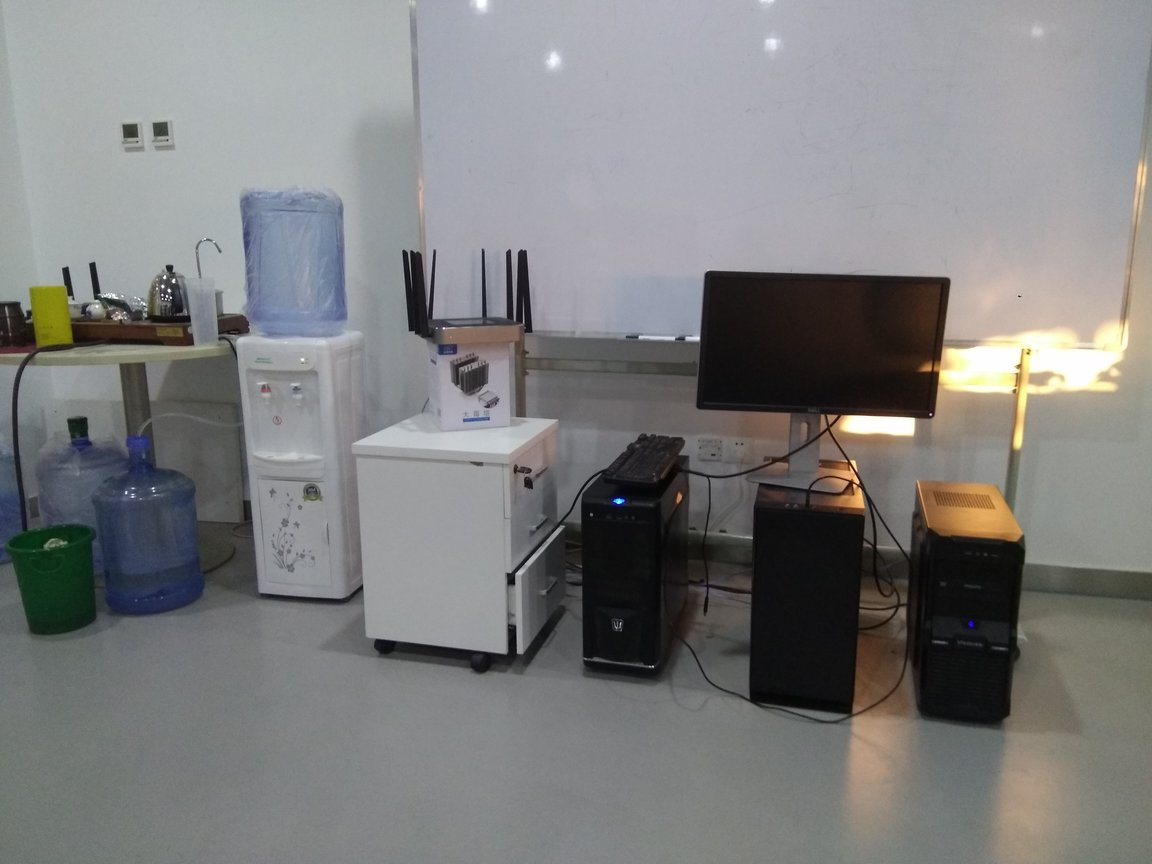computer: (902, 472, 1023, 737), (750, 450, 863, 723), (581, 452, 691, 688)
drawer chest: (350, 411, 560, 671)
monitor: (695, 266, 962, 497)
scuttlebutt: (95, 434, 208, 620), (233, 185, 356, 342), (35, 416, 143, 592)
water dispenser: (229, 324, 367, 605)
